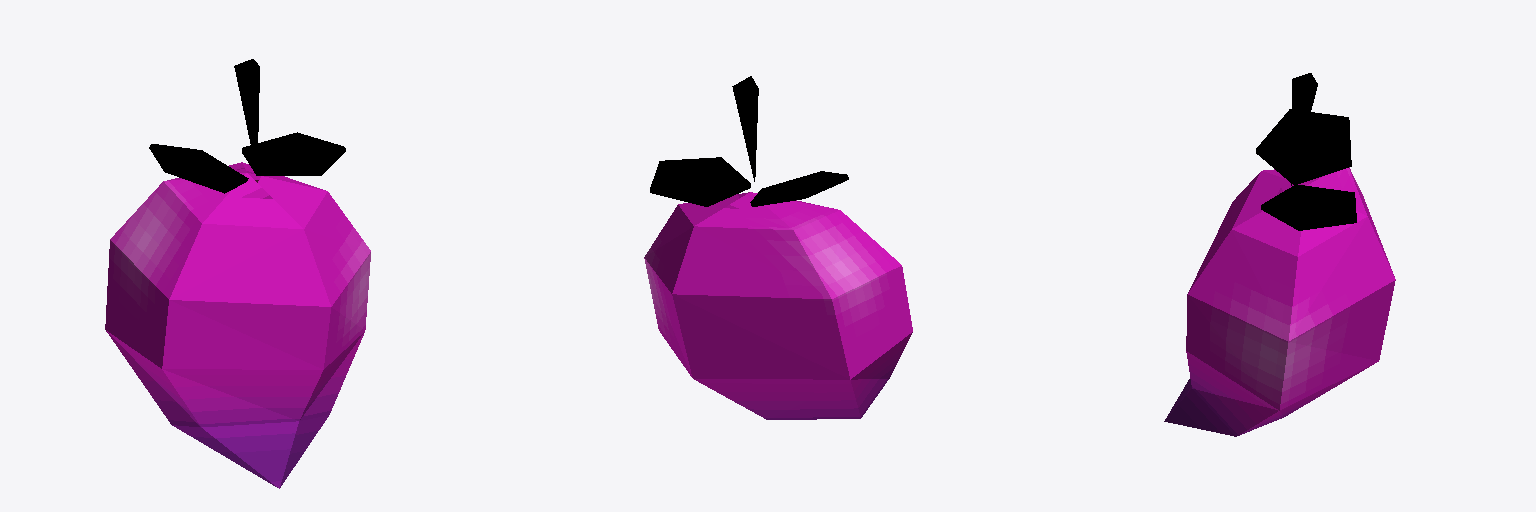
3 renders of one model, left to right at view 1: azimuth 30°, elevation 25°; view 2: azimuth 150°, elevation 25°; view 3: azimuth 270°, elevation 25°, orthographic.
Visible parts, largest first — view 1: polySurface2; view 2: polySurface2; view 3: polySurface2.
Boxes of the visible parts, box(x1,y1,x2,y2) form: polySurface2: box(105, 59, 370, 488); polySurface2: box(644, 76, 912, 419); polySurface2: box(1164, 73, 1395, 436).
Size of the model in its own units: 25.2 by 36.73 by 21.14.
2 materials, 1 textured.